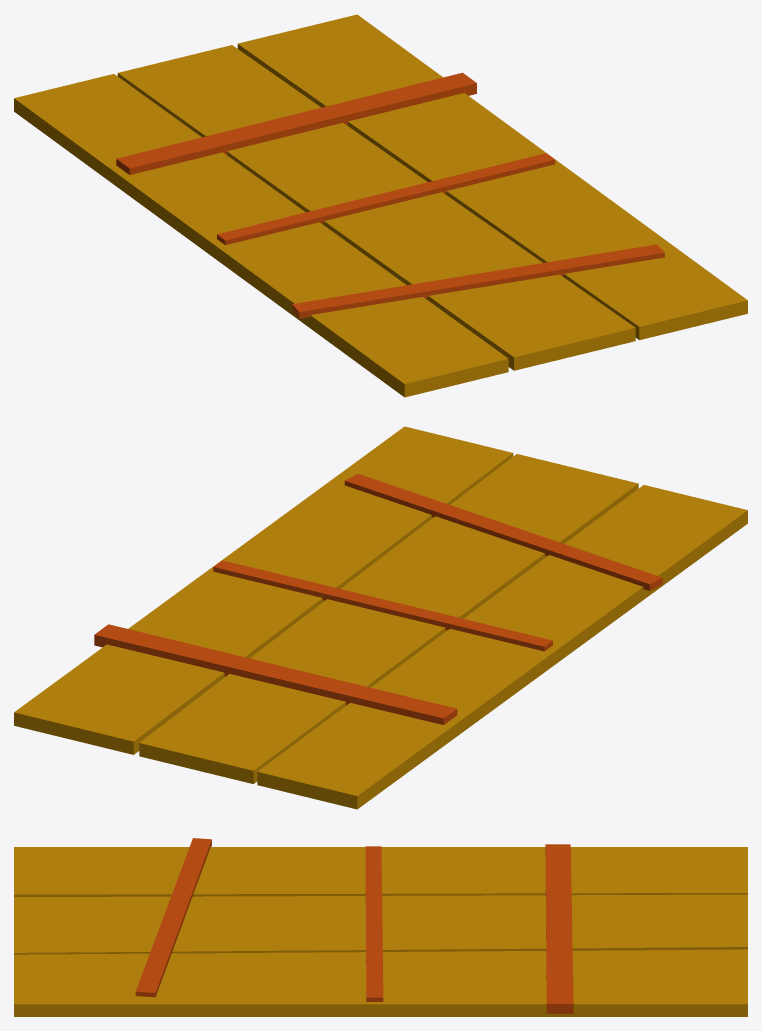
Rendered from tabua_andaime.glb.
3 views of the same model, one above another, from view 1: azimuth 30°, elevation 25°; view 2: azimuth 150°, elevation 25°; view 3: azimuth 270°, elevation 25° (orthographic). The views are drawn at different scales.
Parts seen in each view (by area): view 1: tabua; view 2: tabua; view 3: tabua.
Boxes of the visible parts, x1,y1,x2,y2 form: tabua: (14, 14, 747, 397); tabua: (14, 426, 747, 809); tabua: (14, 838, 747, 1016).
Bounding box in the file's own units: 3.6 × 0.1881 × 6.66.
